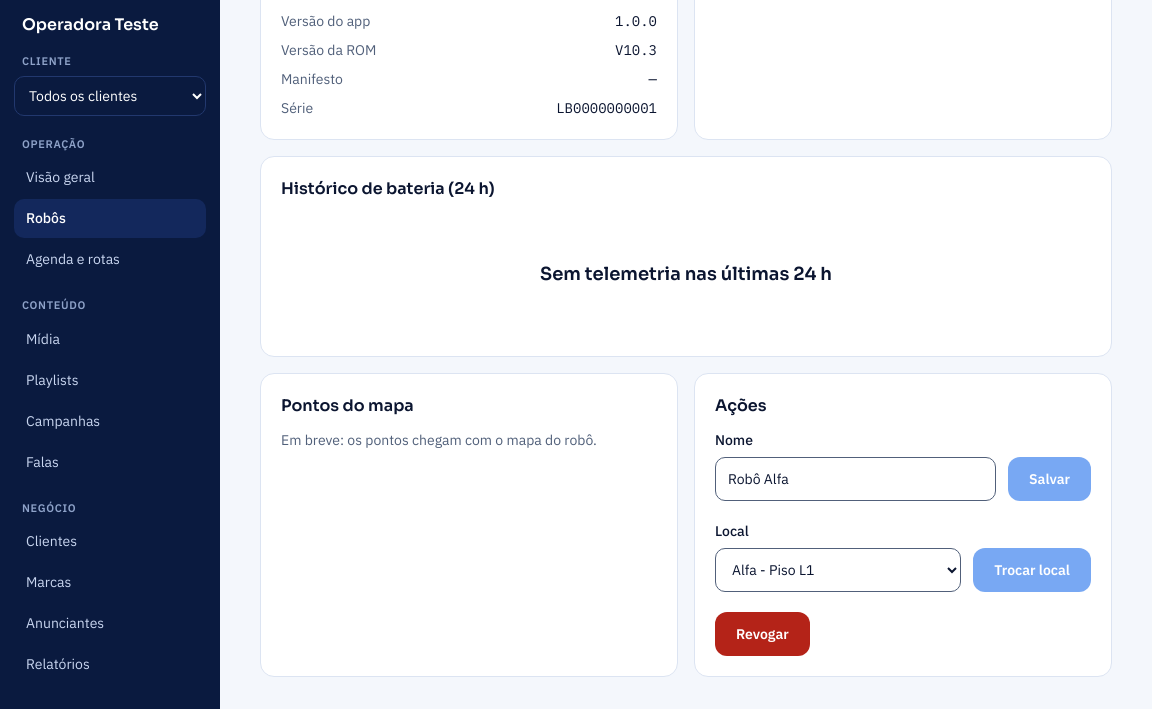
Scenario: robot actions › explains a 403 on rename
(page scrolled)
Type " 2" into the field labelled "Nome" at {"x": 856, "y": 479}, box [715,457,996,501]
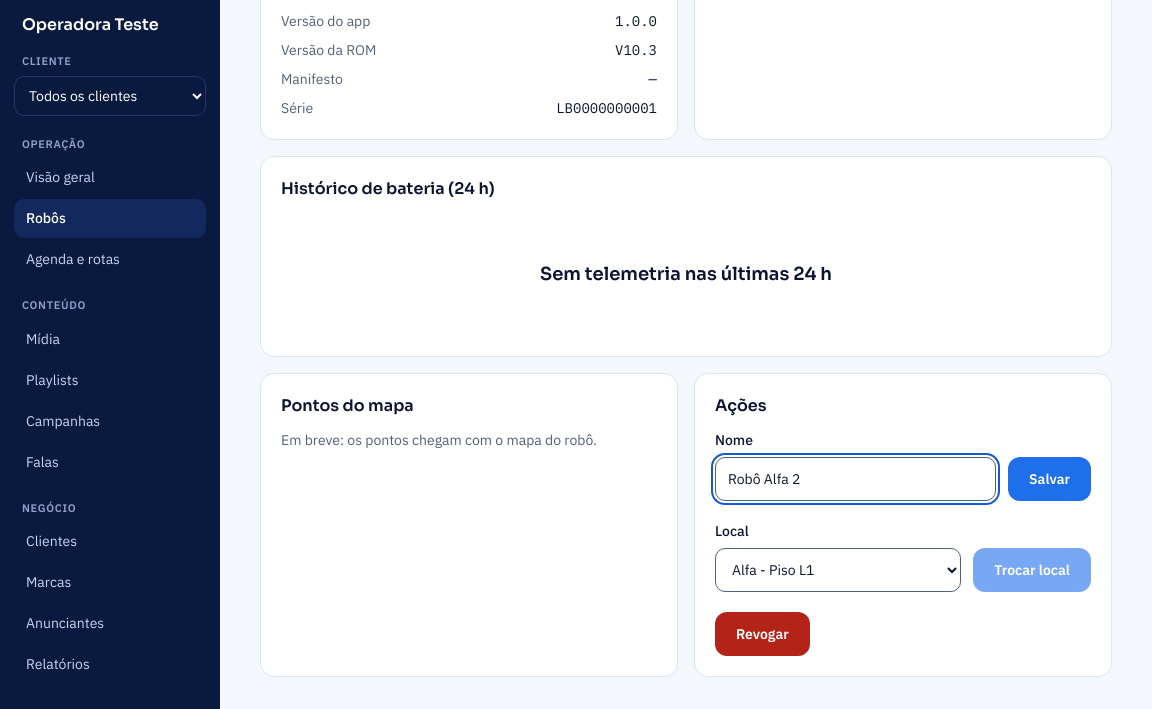
Click the button "Salvar" at {"x": 1050, "y": 479}, box [1008,457,1091,501]
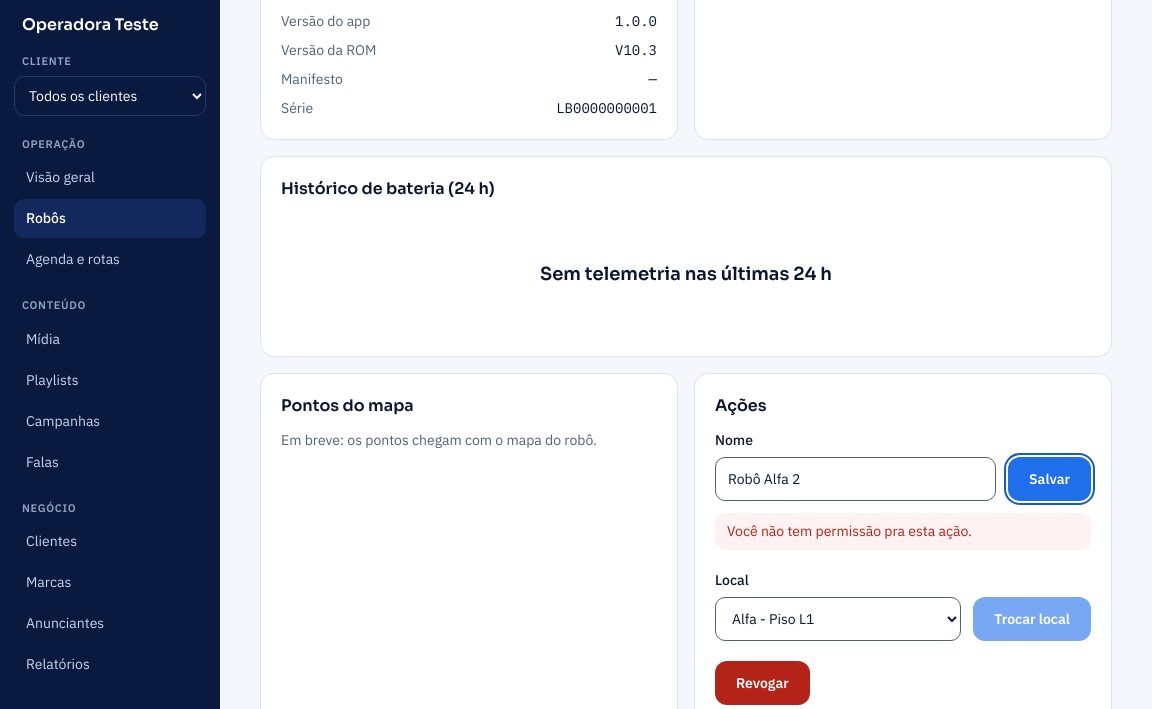
Result: the message reads "Você não tem permissão pra esta ação." at [727,522,972,540]
